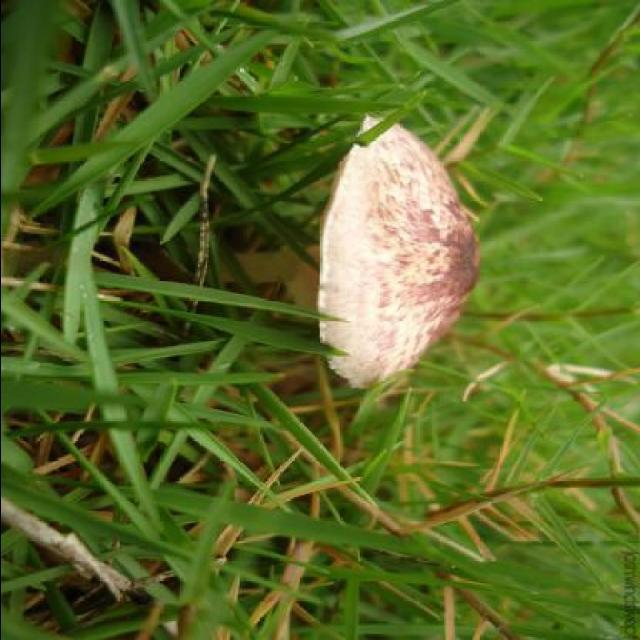Mushroom: (185, 116, 478, 384)
